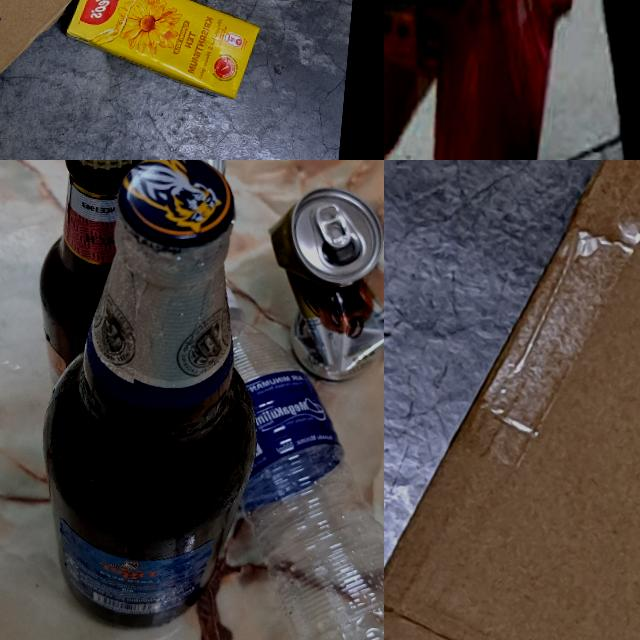aba de lata: (312, 201, 354, 248)
caixinha: (60, 0, 265, 101)
garrafa de vidro: (26, 160, 274, 636), (29, 160, 149, 393)
garrafa plástica: (200, 300, 384, 640)
lata: (258, 184, 384, 382)
papelão: (384, 160, 640, 640), (0, 0, 340, 160)
sacola plástica: (384, 0, 602, 160), (384, 0, 446, 160)
